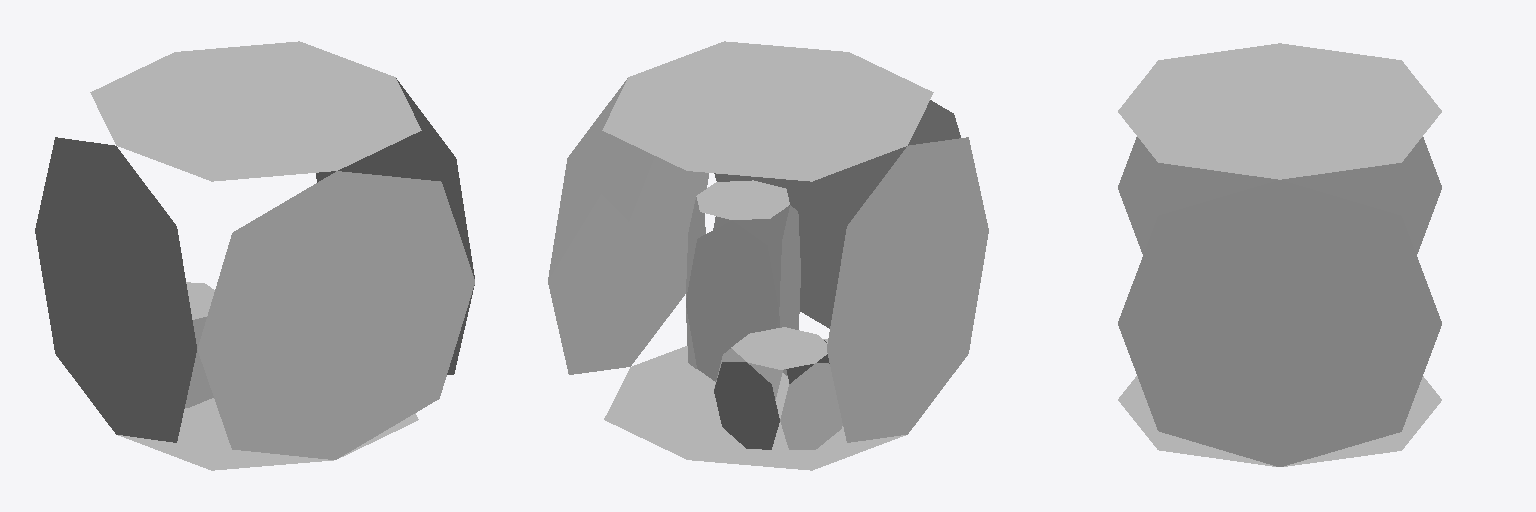
3 views of the same model, side by side, from view 1: azimuth 30°, elevation 25°; view 2: azimuth 150°, elevation 25°; view 3: azimuth 270°, elevation 25° (orthographic).
Parts seen in each view (by area): view 1: back_wall, green_wall, ceiling, red_wall, floor, short_block; view 2: green_wall, ceiling, red_wall, tall_block, floor, short_block, back_wall; view 3: red_wall, ceiling, green_wall, floor.
Boxes of the visible parts, <box> form: back_wall: <box>197,171,474,459</box>; green_wall: <box>35,137,196,442</box>; ceiling: <box>90,41,421,181</box>; red_wall: <box>316,78,474,374</box>; floor: <box>118,398,418,470</box>; short_block: <box>185,282,214,407</box>; green_wall: <box>827,137,988,442</box>; ceiling: <box>602,41,933,181</box>; red_wall: <box>548,78,708,374</box>; tall_block: <box>686,180,800,381</box>; floor: <box>604,339,905,470</box>; short_block: <box>714,327,842,449</box>; back_wall: <box>714,100,960,328</box>; red_wall: <box>1118,180,1441,466</box>; ceiling: <box>1118,43,1441,179</box>; green_wall: <box>1118,137,1441,254</box>; floor: <box>1118,376,1441,466</box>.
Bounding box in the file's own units: 556 × 549 × 559.